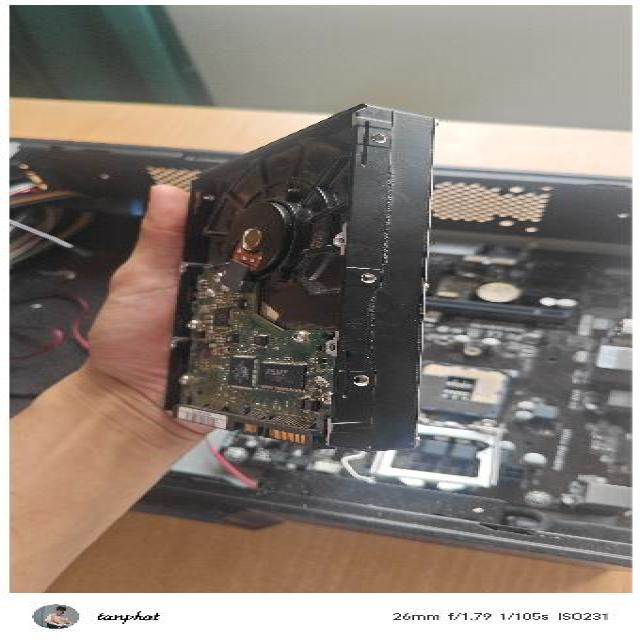DISK: (158, 99, 439, 453)
